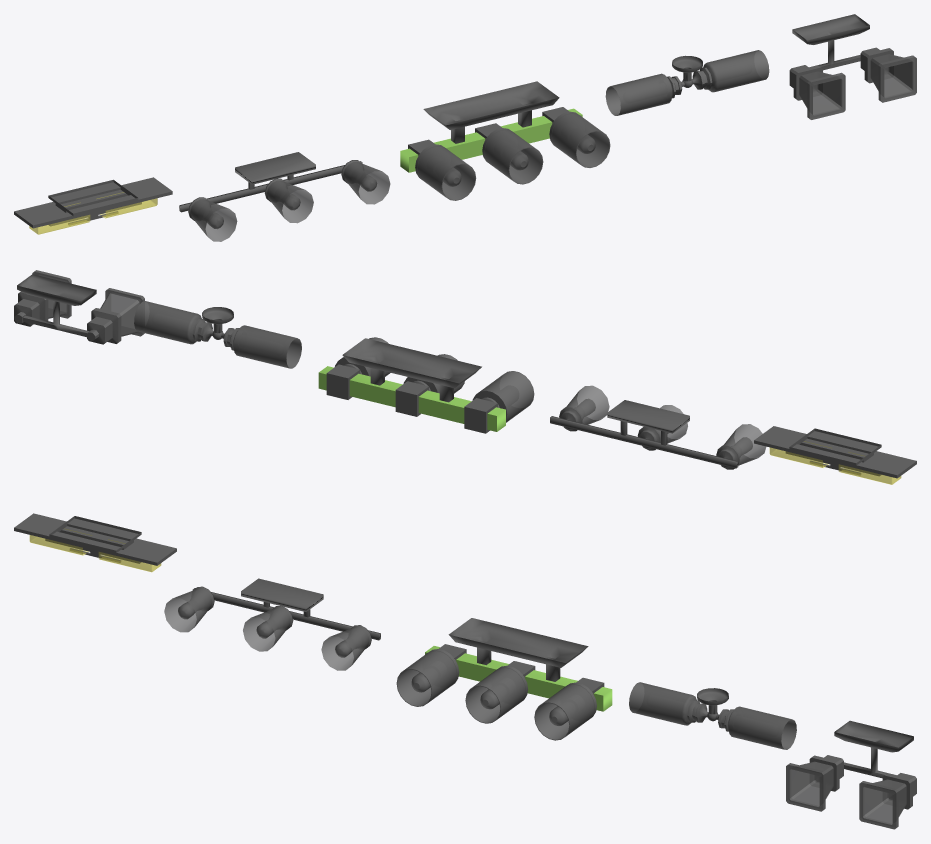
The picture shows the model from 3 angles, top to bottom: view 1: azimuth 30°, elevation 25°; view 2: azimuth 150°, elevation 25°; view 3: azimuth 330°, elevation 25°; orthographic projection. The views are drawn at different scales.
Parts seen in each view (by area): view 1: woodMetal (×3), 3cone (×2), 2cone (×2), mirror (×2), longModern (×2); view 2: woodMetal (×3), 3cone (×2), 2cone (×2), mirror (×2), longModern (×2); view 3: woodMetal (×3), 3cone (×2), 2cone (×2), mirror (×2), longModern (×2).
Part boxes in pixels (<box>): woodMetal (×3): <box>400,81,610,200</box>; 3cone (×2): <box>179,152,390,241</box>; 2cone (×2): <box>789,14,916,119</box>; mirror (×2): <box>605,50,769,115</box>; longModern (×2): <box>14,177,172,234</box>; woodMetal (×3): <box>318,337,534,433</box>; 3cone (×2): <box>550,385,766,469</box>; 2cone (×2): <box>14,270,144,344</box>; mirror (×2): <box>134,301,301,368</box>; longModern (×2): <box>754,426,916,484</box>; woodMetal (×3): <box>396,618,612,740</box>; 3cone (×2): <box>164,578,380,670</box>; 2cone (×2): <box>786,720,916,829</box>; mirror (×2): <box>629,682,796,749</box>; longModern (×2): <box>14,513,176,572</box>.
Bounding box in the file's own units: 2 × 0.1703 × 0.1817.
